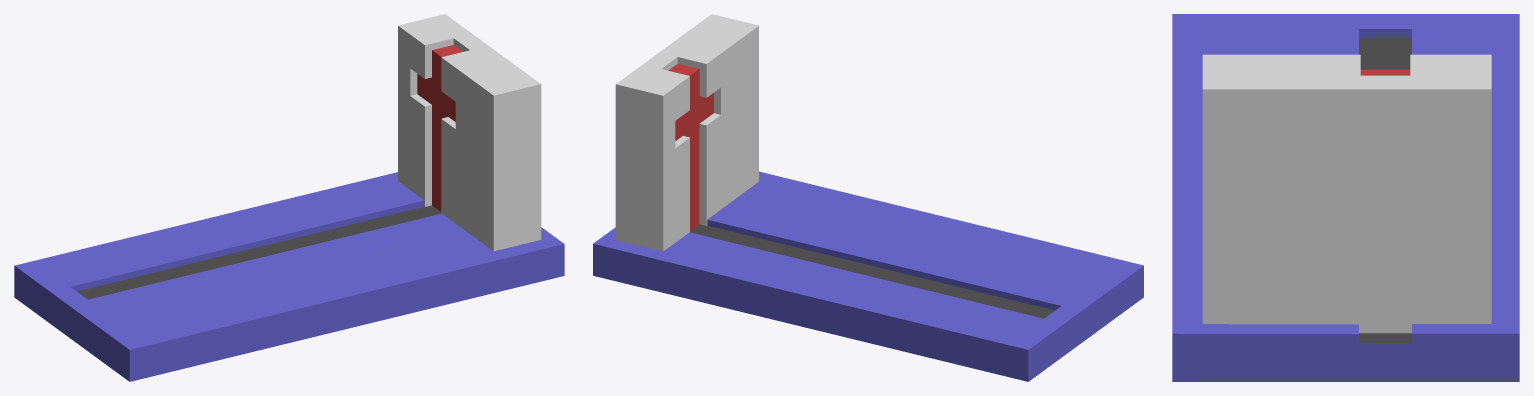
Rendered from Lapida_1.fbx.
3 views of the same model, side by side, from view 1: azimuth 30°, elevation 25°; view 2: azimuth 150°, elevation 25°; view 3: azimuth 270°, elevation 25° (orthographic). The views are drawn at different scales.
Visible parts, largest first — view 1: pCube17, pCube18; view 2: pCube17, pCube18; view 3: pCube18, pCube17.
Boxes of the visible parts, x1,y1,x2,y2 form: pCube17: (14, 172, 564, 381); pCube18: (398, 14, 541, 251); pCube17: (593, 171, 1143, 381); pCube18: (615, 14, 758, 251); pCube18: (1202, 54, 1491, 333); pCube17: (1172, 14, 1519, 381).
Bounding box in the file's own units: 8.68 × 3.58 × 3.99.
